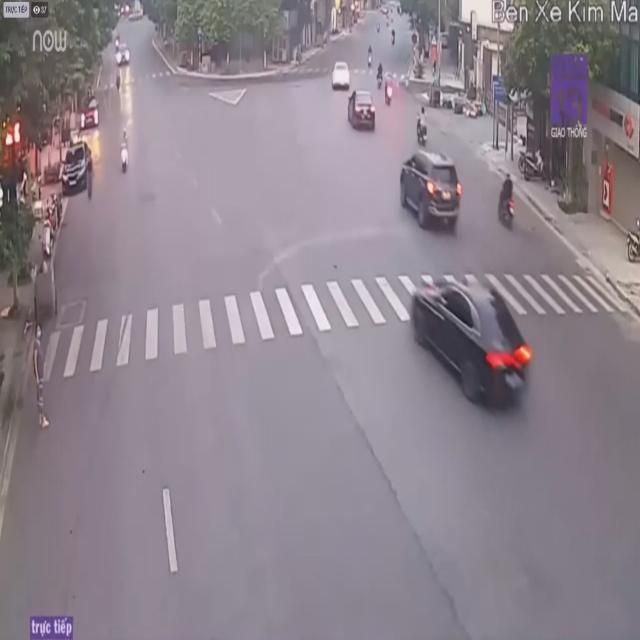car: (405, 276, 535, 418), (398, 151, 463, 236), (61, 139, 92, 195), (348, 93, 378, 134)
motorbike: (498, 175, 514, 230), (416, 106, 428, 147)
